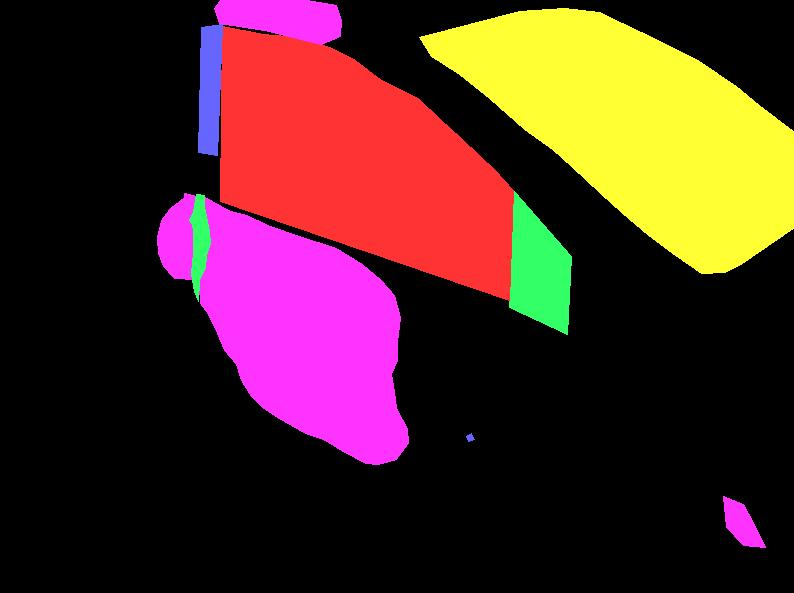Broken part: (509, 191, 571, 334), (189, 194, 210, 301)
Cracked: (419, 8, 794, 273)
Dent: (198, 197, 408, 464), (214, 0, 341, 44), (157, 193, 198, 279), (723, 496, 765, 547)
Missing part: (220, 26, 513, 300), (452, 213, 516, 290)
Scratch: (198, 24, 222, 155), (372, 369, 385, 380), (466, 433, 474, 441)
